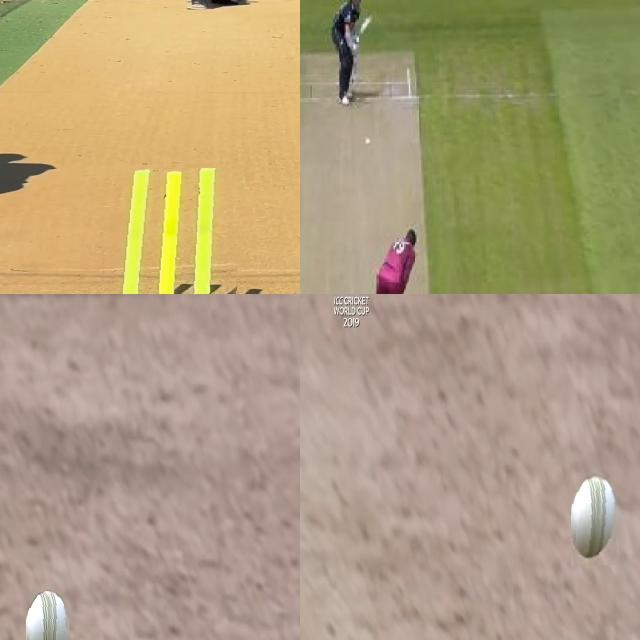Cricket ball: (571, 473, 623, 568), (26, 589, 70, 640), (364, 137, 372, 148)
Stumps: (111, 168, 246, 294)
